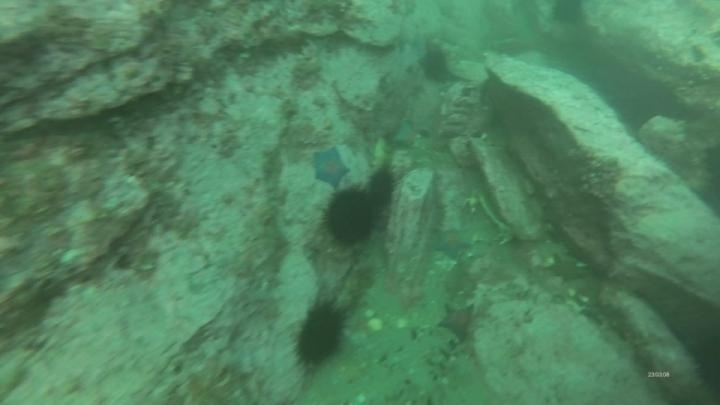echinus: (291, 298, 351, 371), (320, 187, 380, 248), (685, 329, 720, 399), (416, 43, 454, 85), (365, 166, 399, 209), (548, 0, 588, 28)
starfish: (309, 145, 352, 190), (436, 301, 479, 344), (430, 227, 475, 260), (388, 117, 423, 151)
